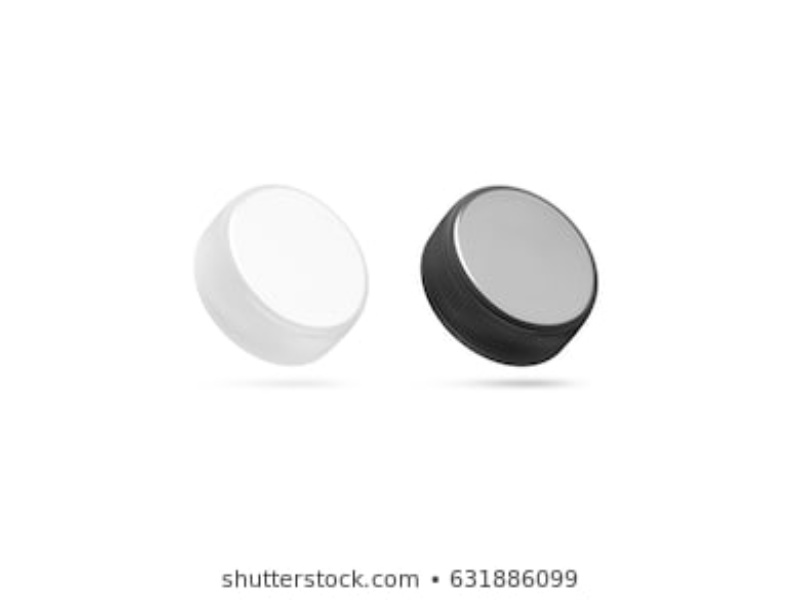bottle-cap: (195, 182, 373, 368), (418, 184, 596, 370)
